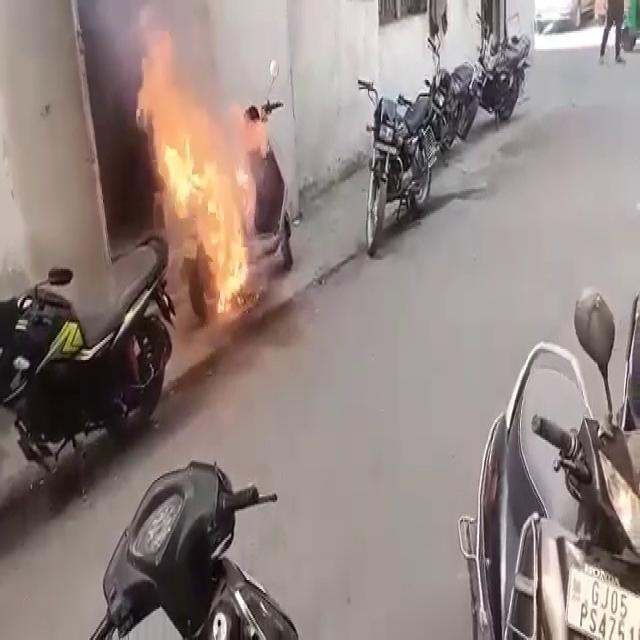Fire: (142, 51, 254, 324)
